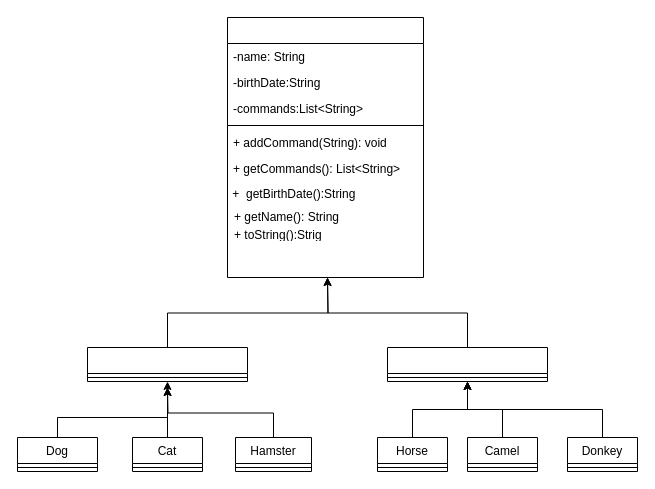
Some shapes in this 655 by 489 pixel diagram are drawn without their labels. The box of each missing label's shape, as (x1, y1, x2, y2) in pixels:
Animal: (226, 16, 424, 278)
PackAnimal: (386, 346, 548, 382)
Pet: (86, 346, 248, 382)
